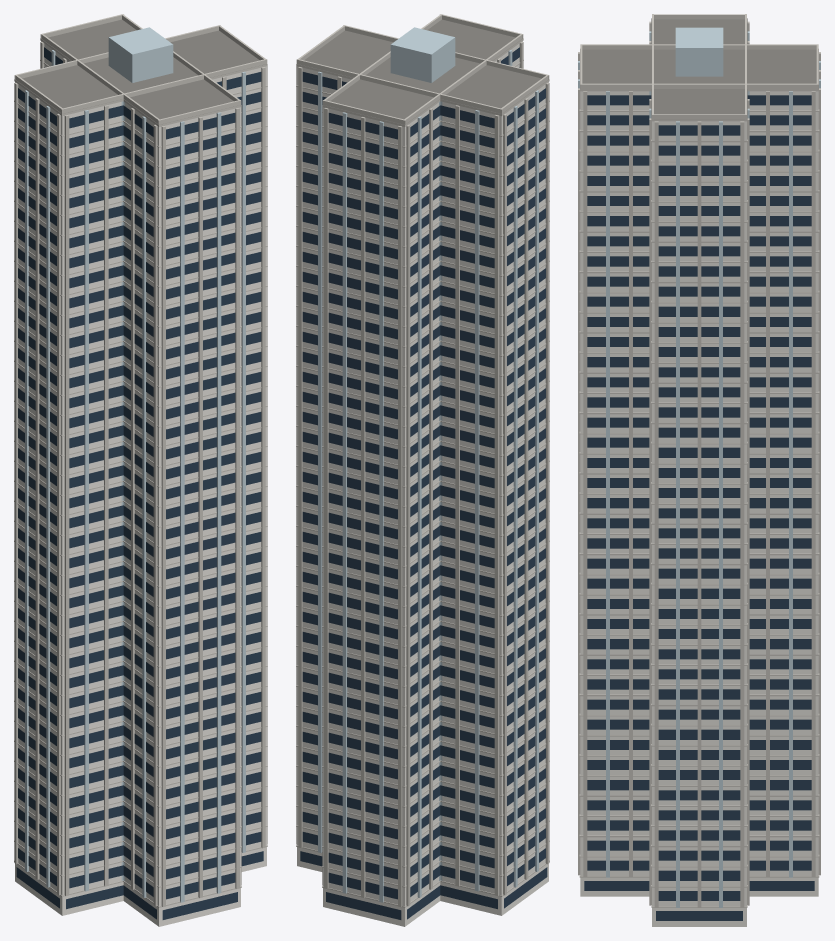
File: tour_hong_kong.glb
3 views of the same model, side by side, from view 1: azimuth 30°, elevation 25°; view 2: azimuth 150°, elevation 25°; view 3: azimuth 270°, elevation 25° (orthographic).
Visible parts, largest first — view 1: tour_hong_kong; view 2: tour_hong_kong; view 3: tour_hong_kong.
Boxes of the visible parts, bbox=[...] form: tour_hong_kong: bbox=[14, 14, 267, 926]; tour_hong_kong: bbox=[296, 14, 549, 926]; tour_hong_kong: bbox=[578, 14, 820, 926].
Bounding box in the file's own units: 30.6 × 117 × 30.6.
Materials: 1 (1 with a texture image).
